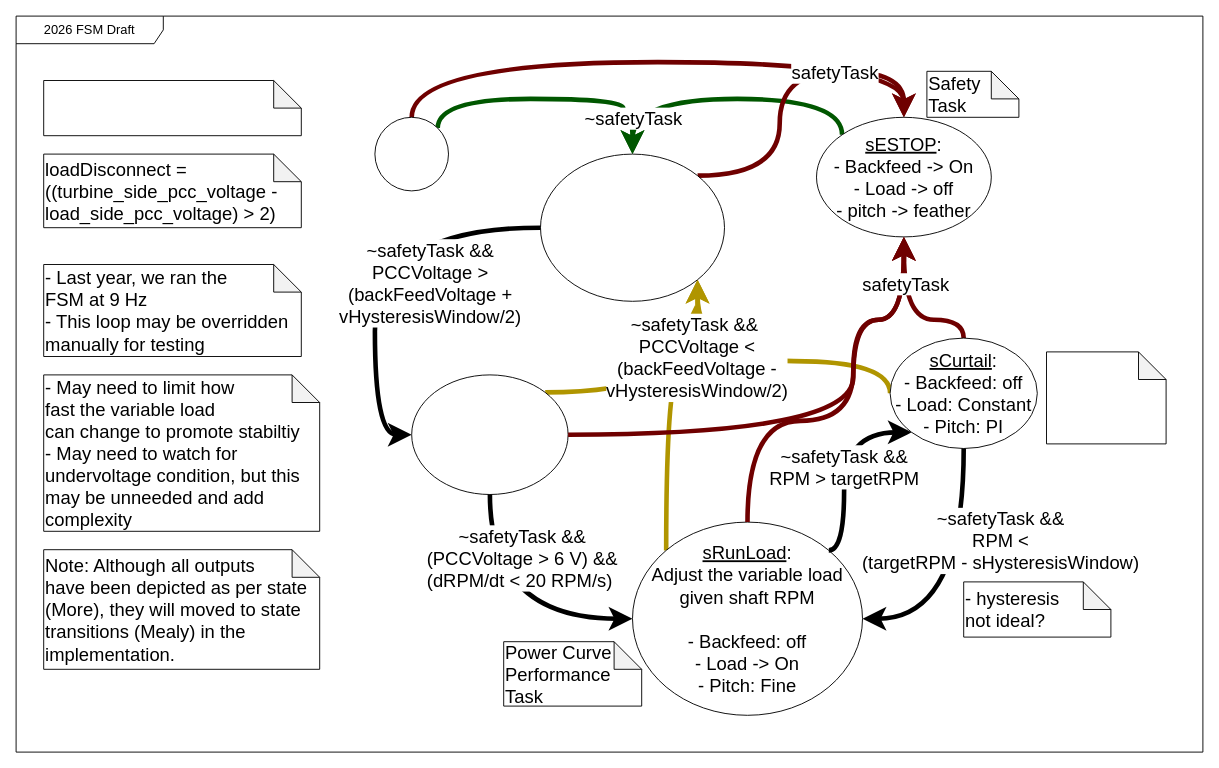
Some shapes in this 1219 by 768 pixel diagram are drawn without their labels. Each missing label, with the box of its shape:
Control of Rated Power & Durability Task: (1046, 351, 1166, 444)
Reset: (374, 116, 448, 191)
safetyTask = ESTOP || loadDisconnect: (43, 80, 301, 136)
sRST : (Default) - Backfeed -> On - Load -> off - Pitch -> cut in: (540, 153, 724, 301)
sStartLoad : - Backfeed: off - Load: off - Pitch -> Fine: (411, 374, 568, 494)
